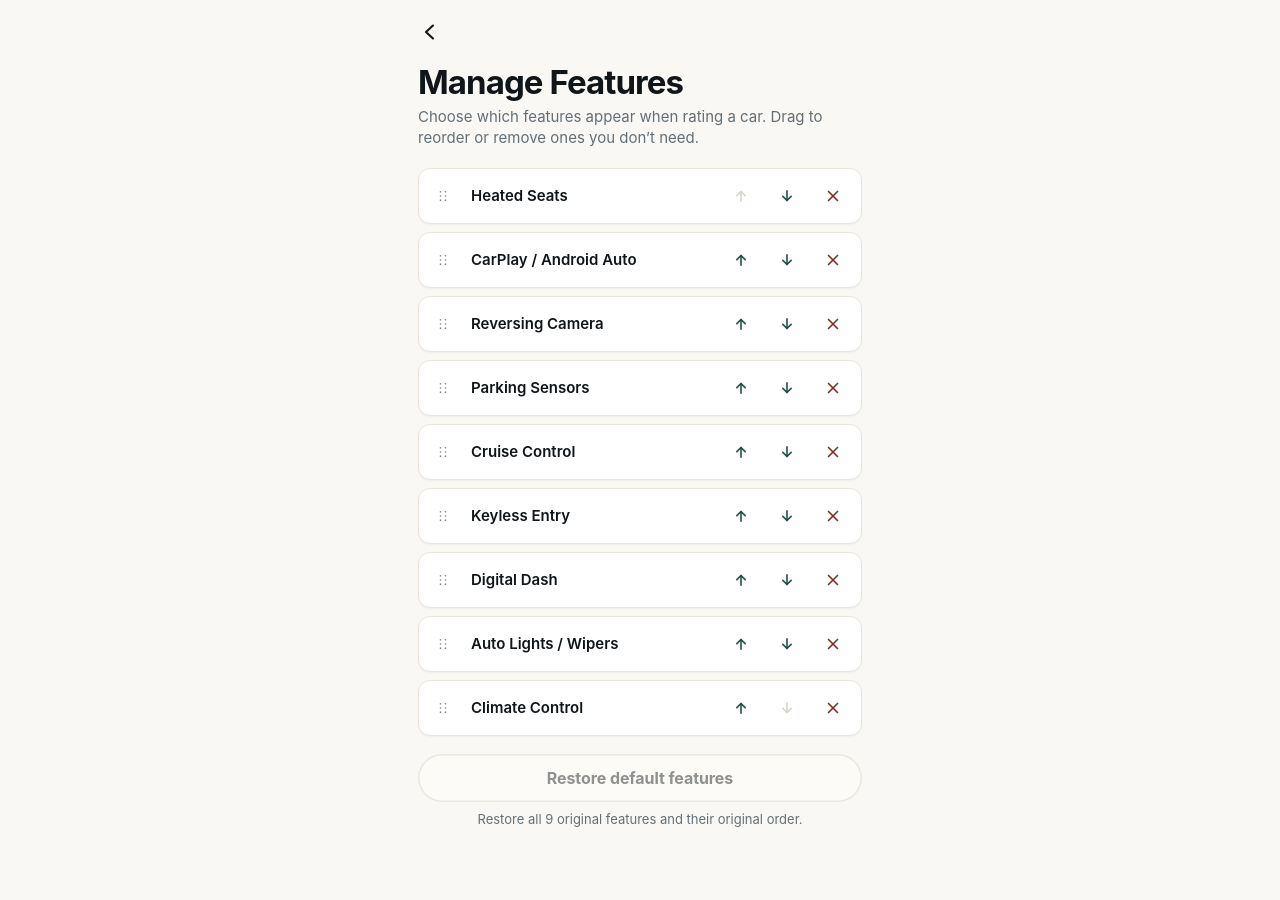
Test case: Manage Features › asks before removing, and says plainly that saved cars keep the information
Click the button named "Remove Digital Dash" at (833, 580), box [811,558,855,602]
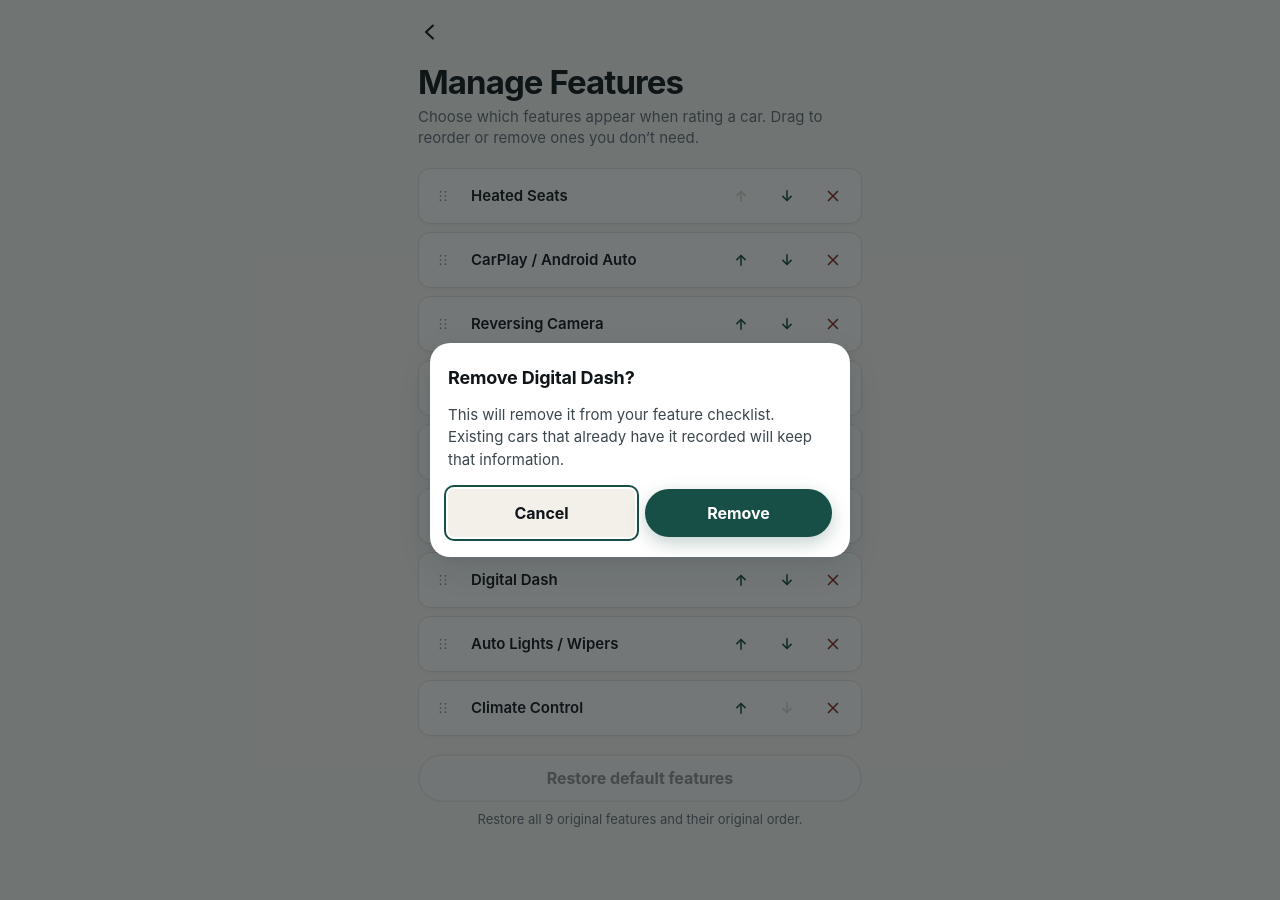
Result: the text "Existing cars that already have it recorded will keep that information" is shown at [448,404,812,468]
